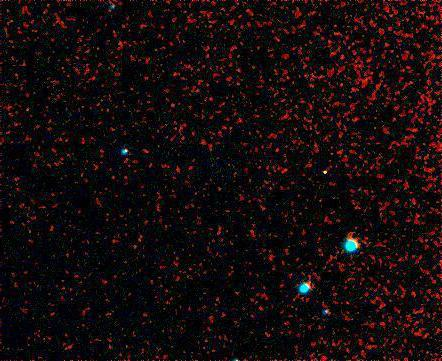star: (310, 157, 340, 187)
